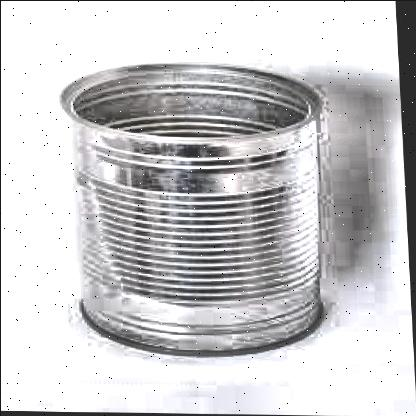Can: (60, 41, 328, 354)
